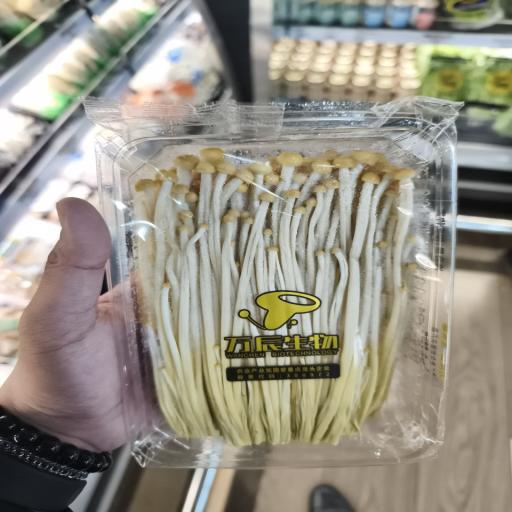Enoki Mushroom: (127, 137, 430, 454)
